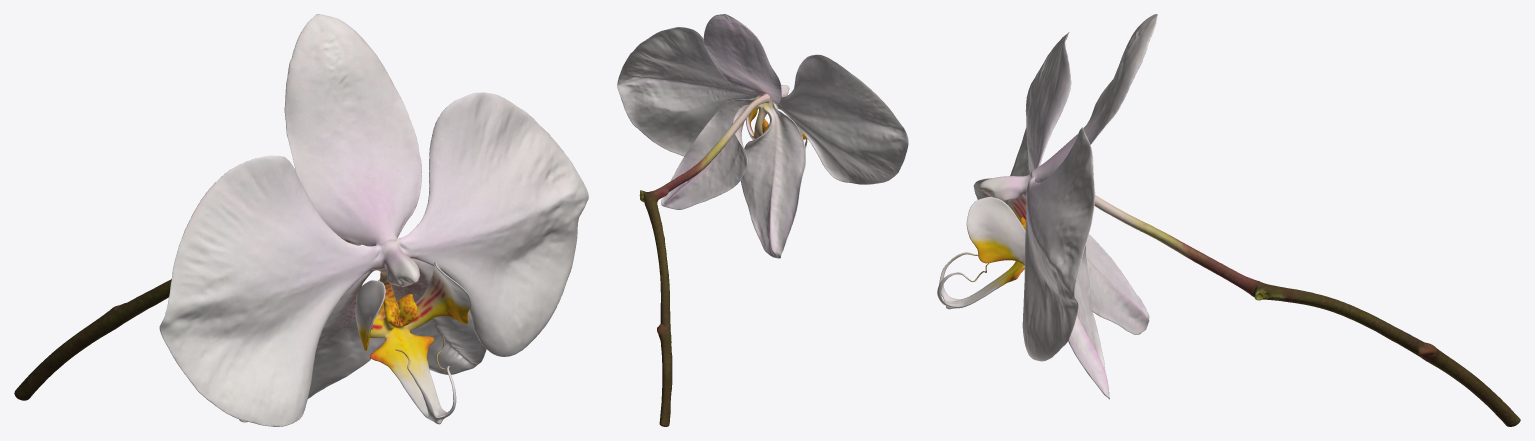
The model's file is Phalaenopsis_amabilis-100k-2048_std_draco.glb.
3 renders of one model, left to right at view 1: azimuth 30°, elevation 25°; view 2: azimuth 150°, elevation 25°; view 3: azimuth 270°, elevation 25°, orthographic. The views are drawn at different scales.
Size of the model in its own units: 0.0897 by 0.0958 by 0.1117.
1 material, 1 textured.
